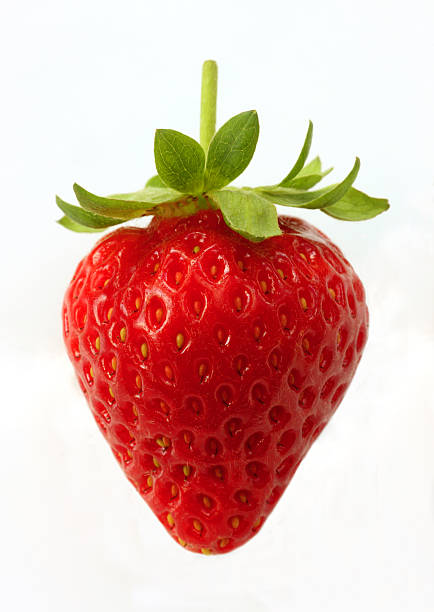Fresa: (55, 166, 377, 559)
